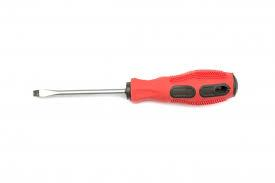screwdriver: (32, 68, 236, 105)
